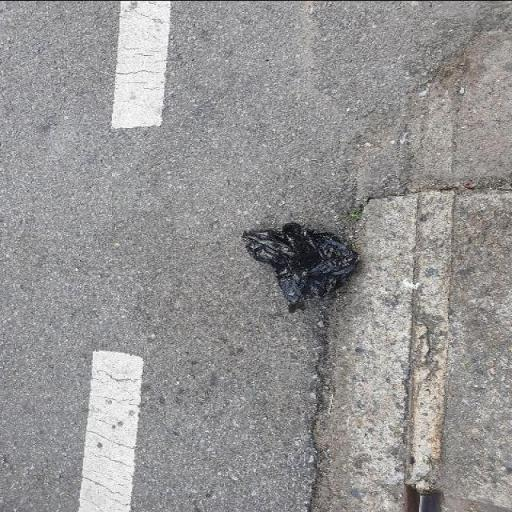plastic-bag: (240, 222, 360, 312)
